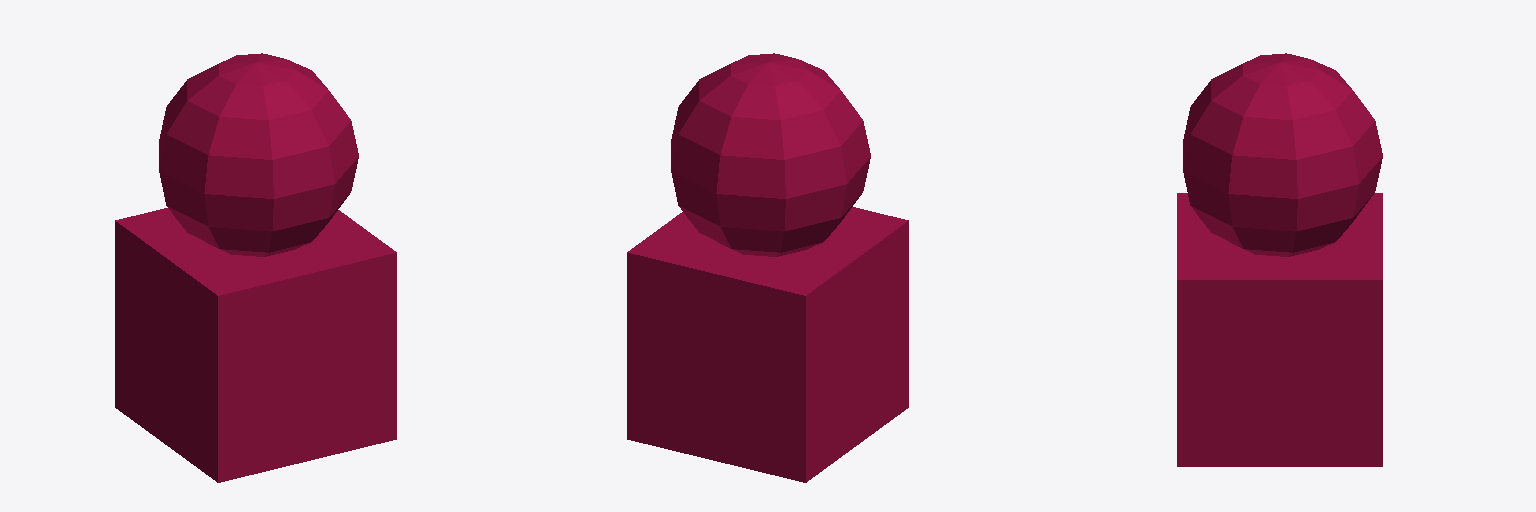
The model's file is person.obj.
3 views of the same model, side by side, from view 1: azimuth 30°, elevation 25°; view 2: azimuth 150°, elevation 25°; view 3: azimuth 270°, elevation 25° (orthographic).
Visible parts, largest first — view 1: Cube, Sphere.001; view 2: Cube, Sphere.001; view 3: Cube, Sphere.001.
Boxes of the visible parts, x1=… form: Cube: x1=115, y1=208, x2=396, y2=482; Sphere.001: x1=159, y1=53, x2=358, y2=256; Cube: x1=627, y1=207, x2=908, y2=482; Sphere.001: x1=671, y1=53, x2=870, y2=256; Cube: x1=1177, y1=193, x2=1382, y2=466; Sphere.001: x1=1183, y1=53, x2=1382, y2=256.
Bounding box in the file's own units: 2 × 4.13 × 2.